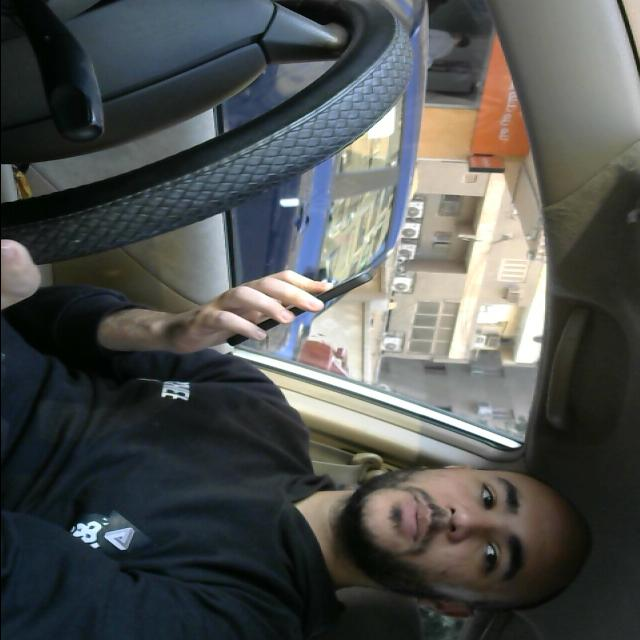mobile use: (227, 268, 377, 348)
